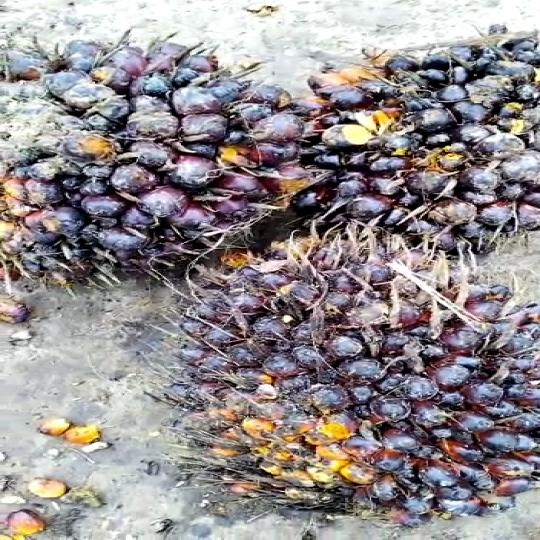kurang masak: (125, 243, 540, 517), (0, 27, 309, 289), (305, 40, 540, 252)
